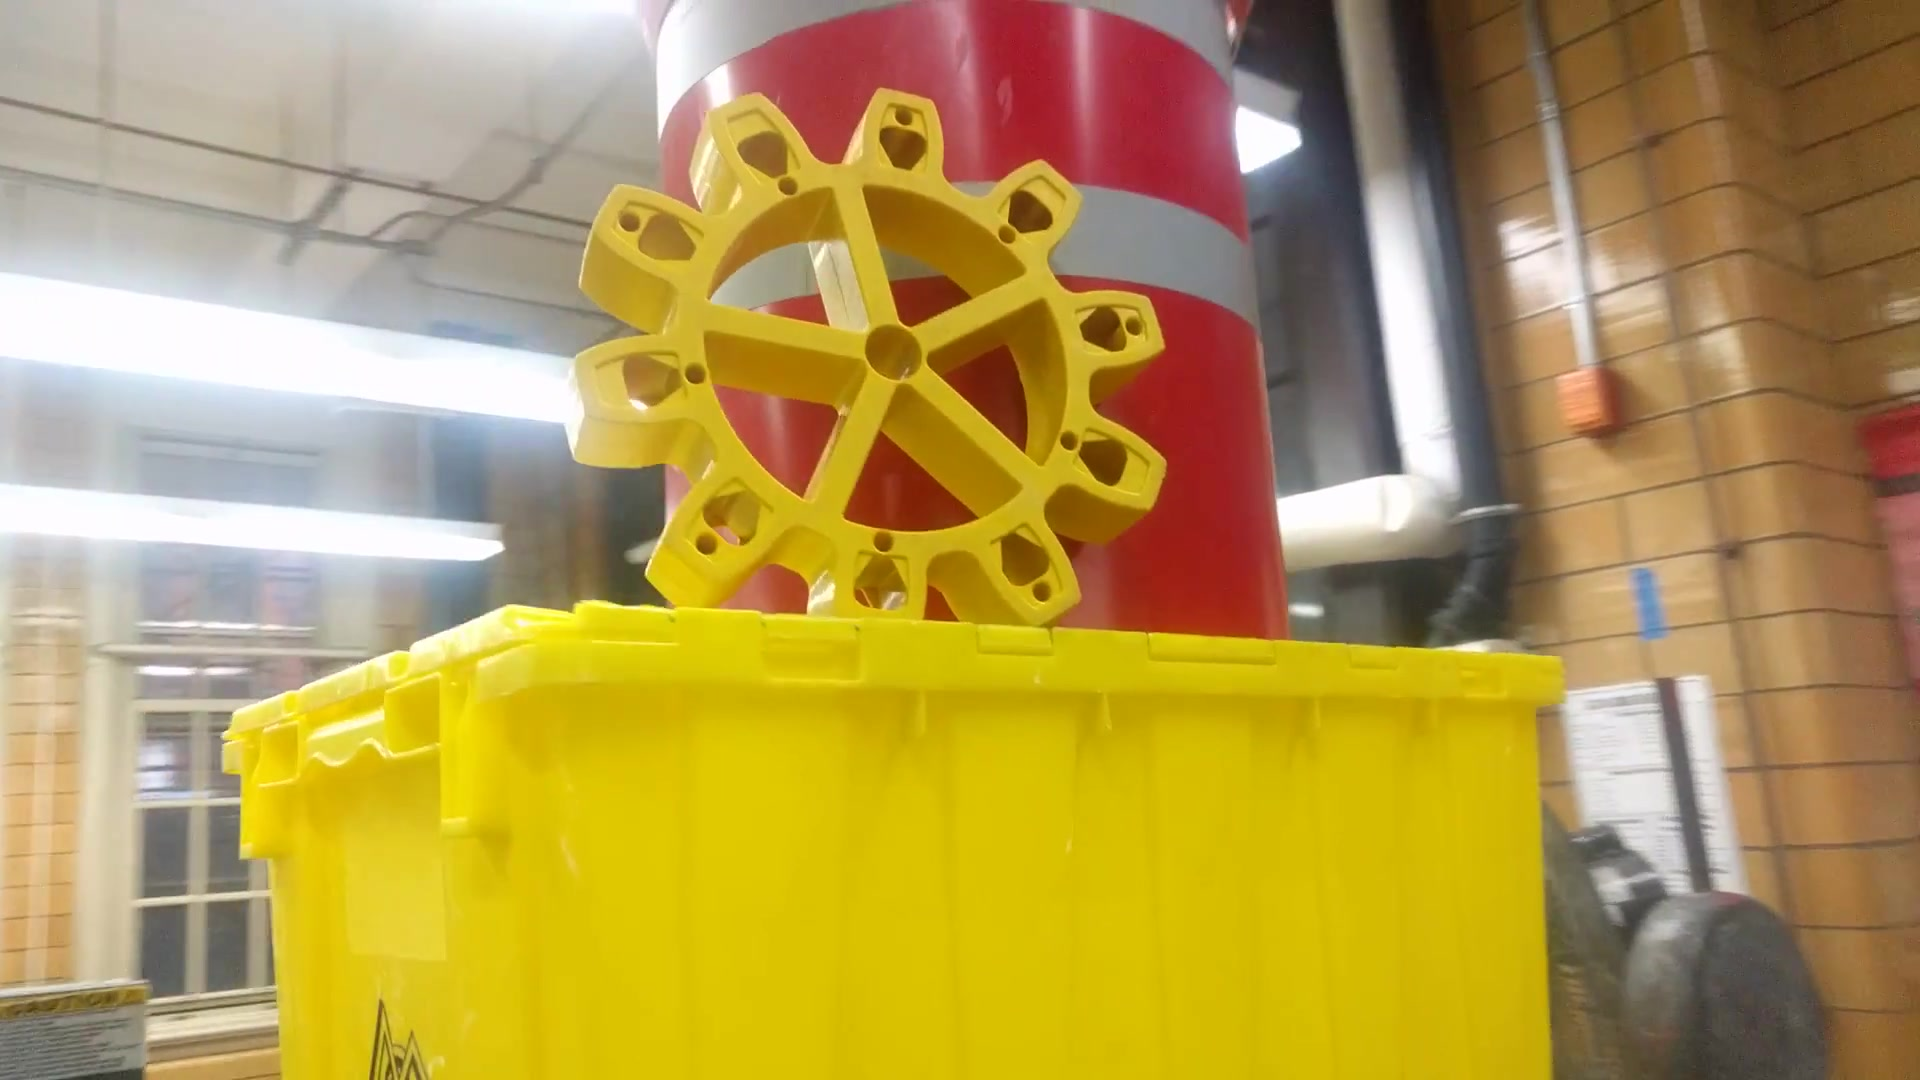gear: (558, 71, 1172, 632)
